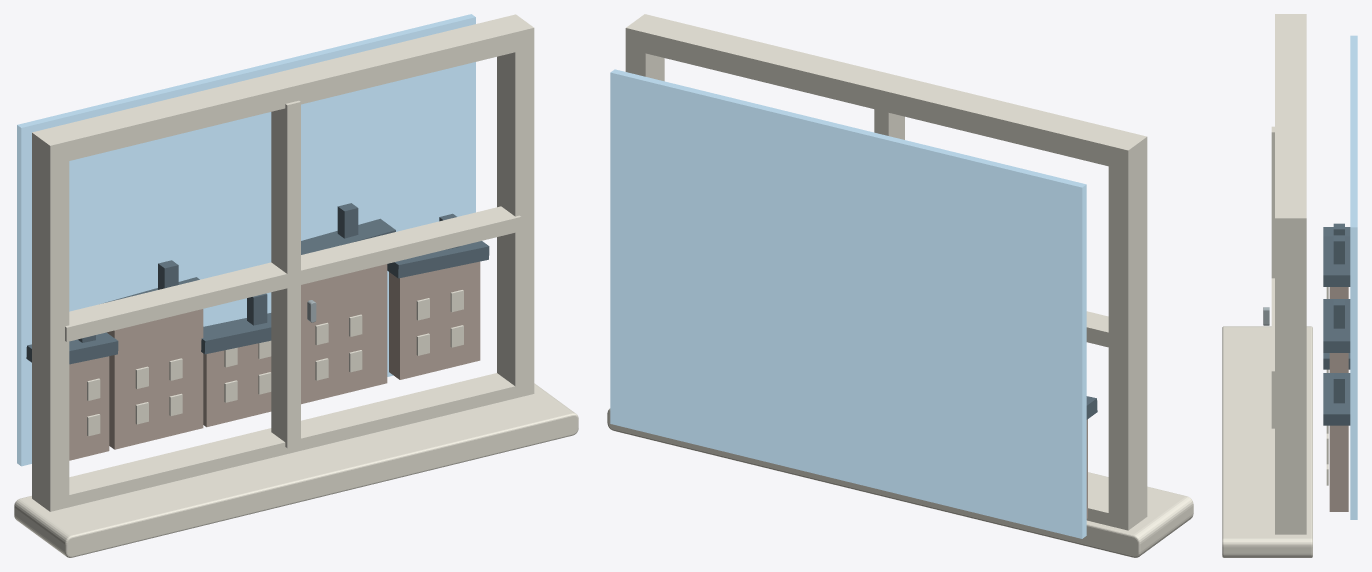
Rendered from window-and-rooftops.glb.
3 views of the same model, side by side, from view 1: azimuth 30°, elevation 25°; view 2: azimuth 150°, elevation 25°; view 3: azimuth 270°, elevation 25° (orthographic). The views are drawn at different scales.
Visible parts, largest first — view 1: window-and-rooftops; view 2: window-and-rooftops; view 3: window-and-rooftops.
Part boxes in pixels (x1=…): window-and-rooftops: x1=14, y1=14, x2=578, y2=557; window-and-rooftops: x1=607, y1=14, x2=1193, y2=557; window-and-rooftops: x1=1222, y1=14, x2=1357, y2=557.
Bounding box in the file's own units: 2.43 × 1.76 × 0.6425.
